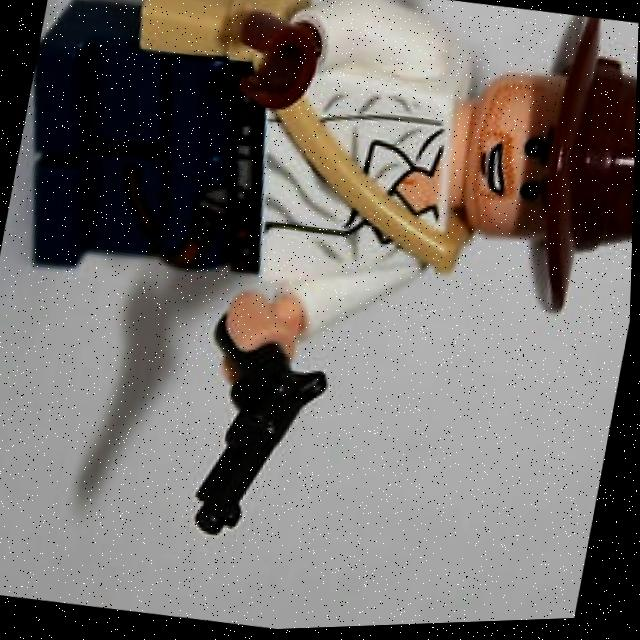pistol: (177, 307, 343, 553)
